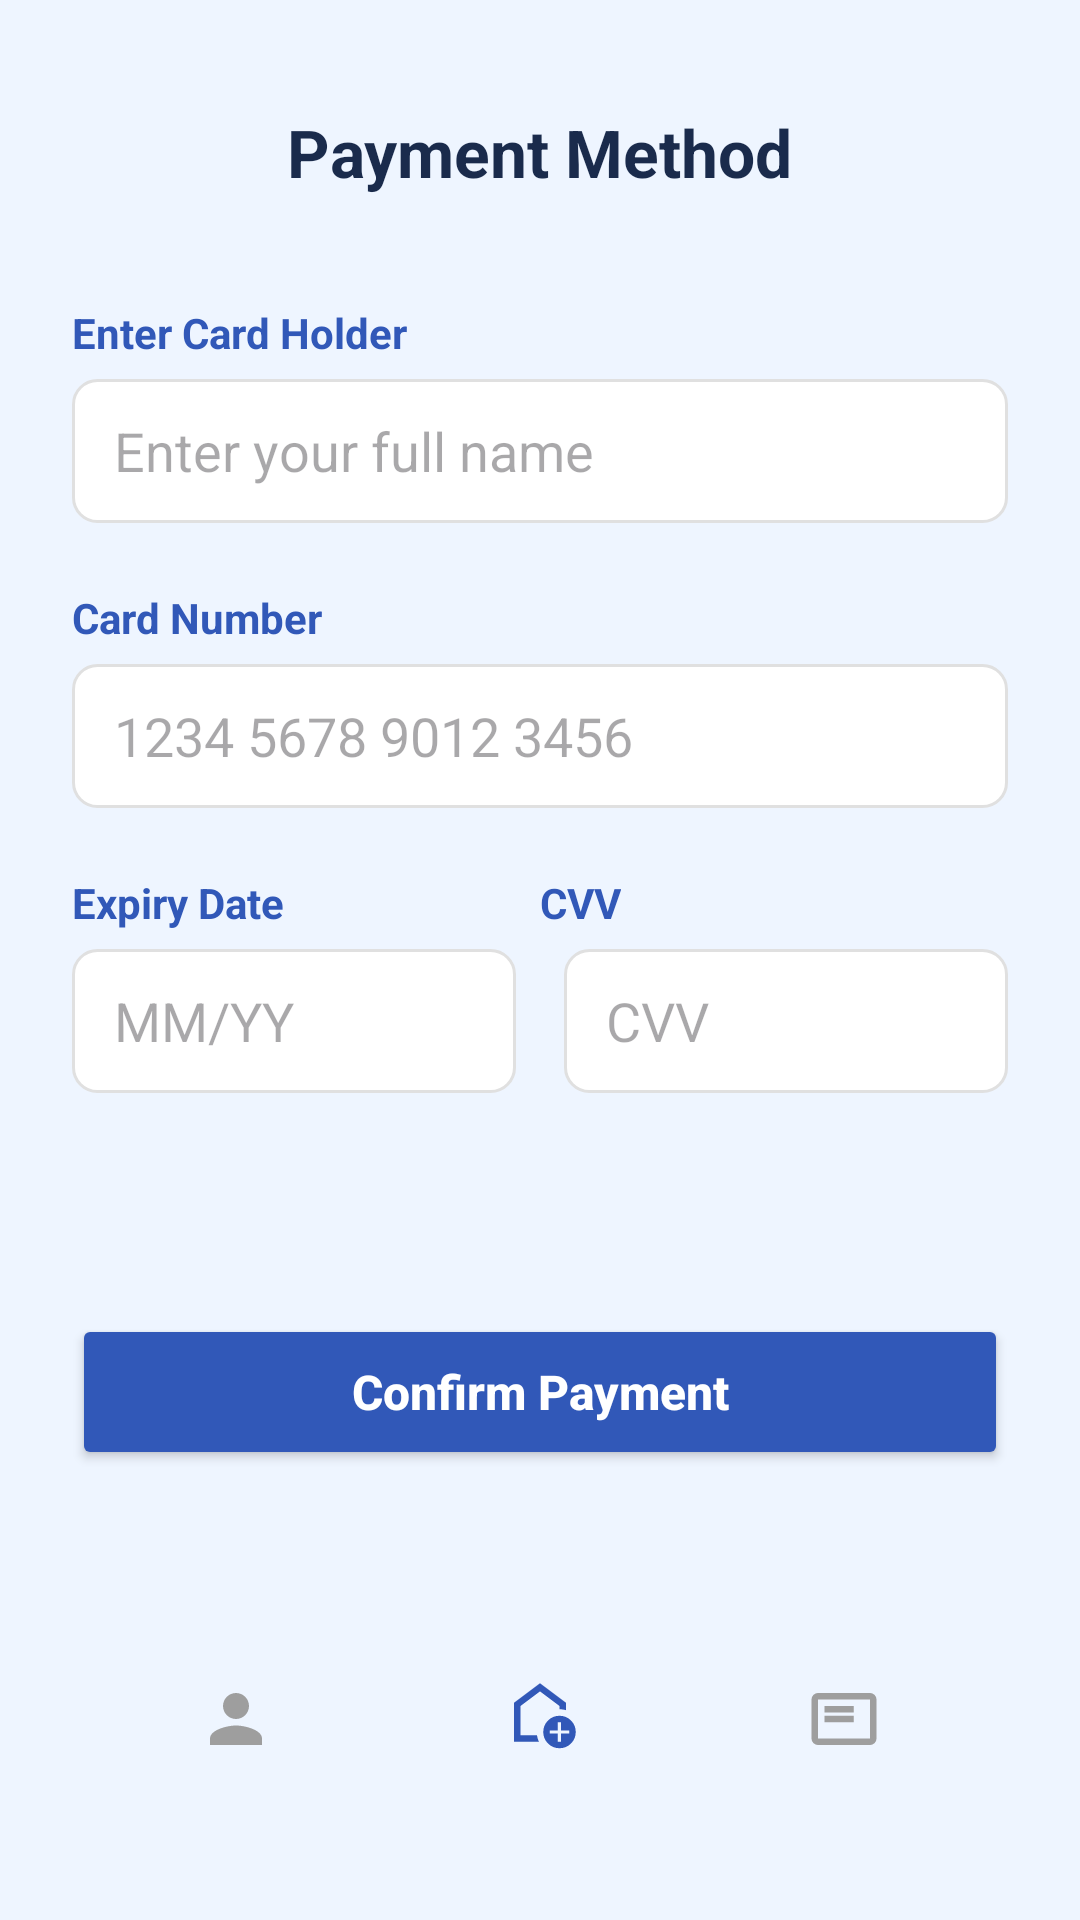

Screen size 1080 × 1920. Icon name, then its box in pixels as (x1, y1, x2, y2):
home: (514, 1683, 576, 1749)
person: (210, 1693, 262, 1745)
